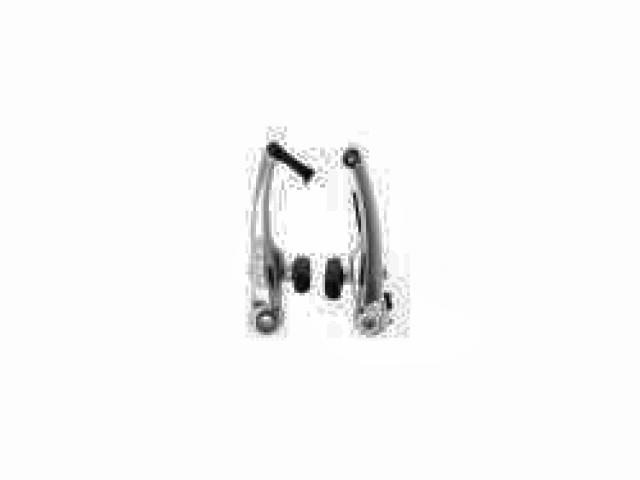rim_brake: (246, 140, 396, 340)
